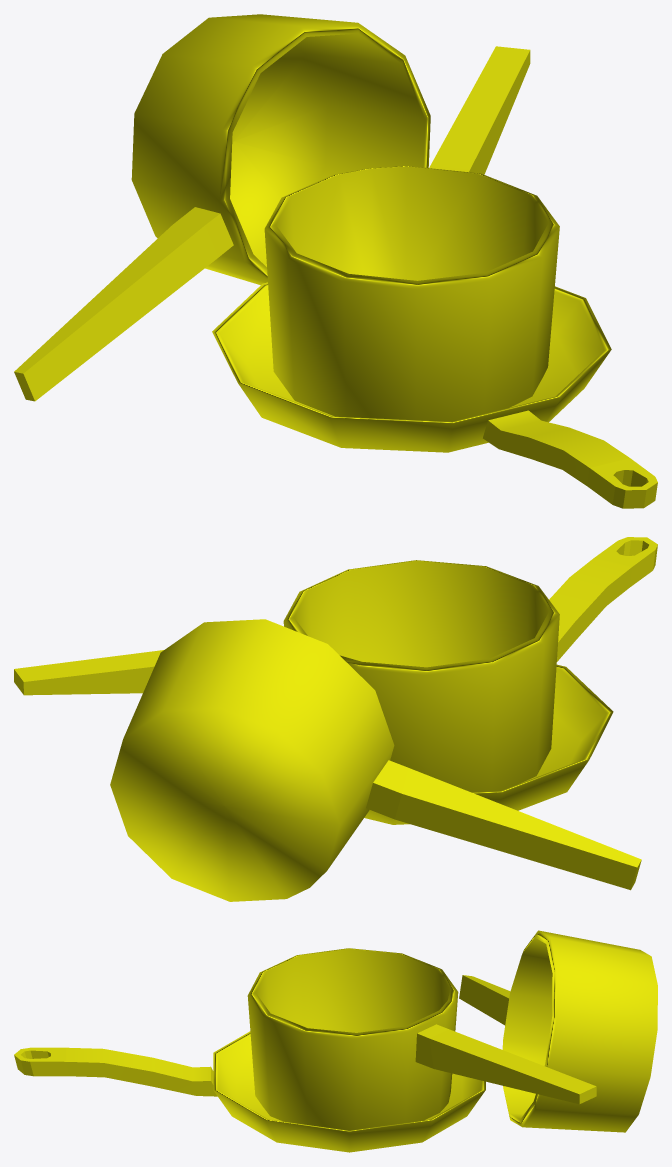
File: Pan_Pile_01_Lod1.fbx
3 views of the same model, one above another, from view 1: azimuth 30°, elevation 25°; view 2: azimuth 150°, elevation 25°; view 3: azimuth 270°, elevation 25° (orthographic). The views are drawn at different scales.
Parts seen in each view (by area): view 1: Pan_Pile_01_Lod1; view 2: Pan_Pile_01_Lod1; view 3: Pan_Pile_01_Lod1.
Boxes of the visible parts, box(x1,y1,x2,y2) form: Pan_Pile_01_Lod1: box(14, 14, 657, 508); Pan_Pile_01_Lod1: box(14, 537, 657, 901); Pan_Pile_01_Lod1: box(14, 930, 657, 1152).
Bounding box in the file's own units: 68.19 × 29.52 × 90.2.
